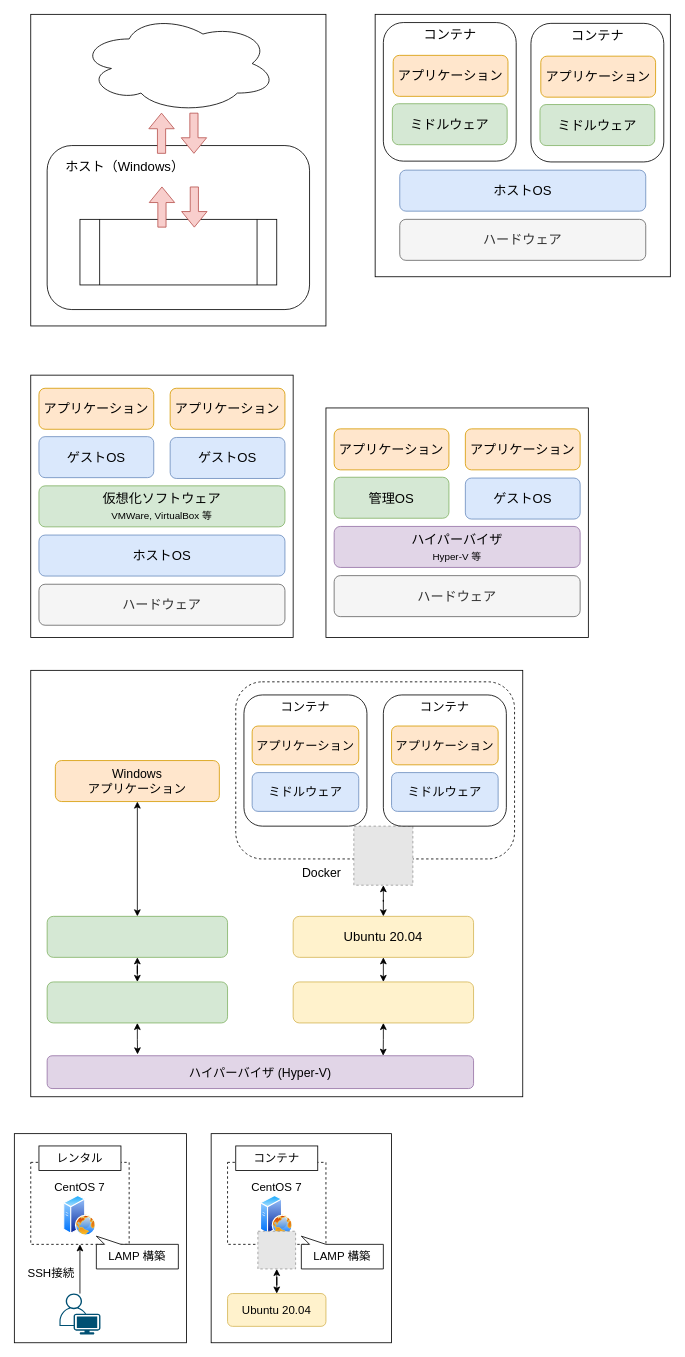
The diagram is 685 pixels wide and 1357 high, and some of its shapes have lost their labels. Grey dashed boxes stand in for pictures. The shapes that lost their labels are listed below. From the top down, each one's centre as x and y in pixels, then its label:
the point at 178,63: 外部ネットワーク
the point at 178,252: VirtualBox 仮想マシン
the point at 137,936: Windows 10 OS
the point at 137,1002: Windows カーネル
the point at 383,1002: Linuxカーネル (WSL2バッチ)
